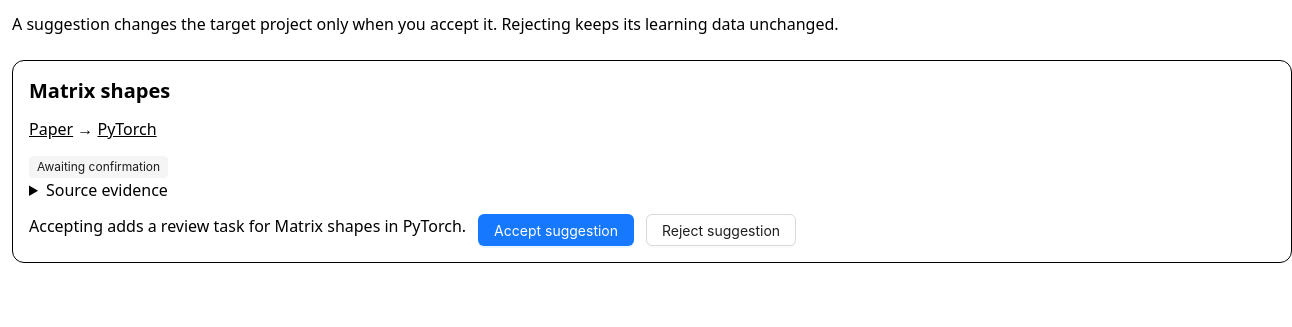
Test: reject sends only rejection and reports the unchanged target
The image size is (1292, 327).
What coordinates should you click on to do the following:
click the button "Reject suggestion"
I would click on:
 (721, 230)
Its box is [646,214,796,246].
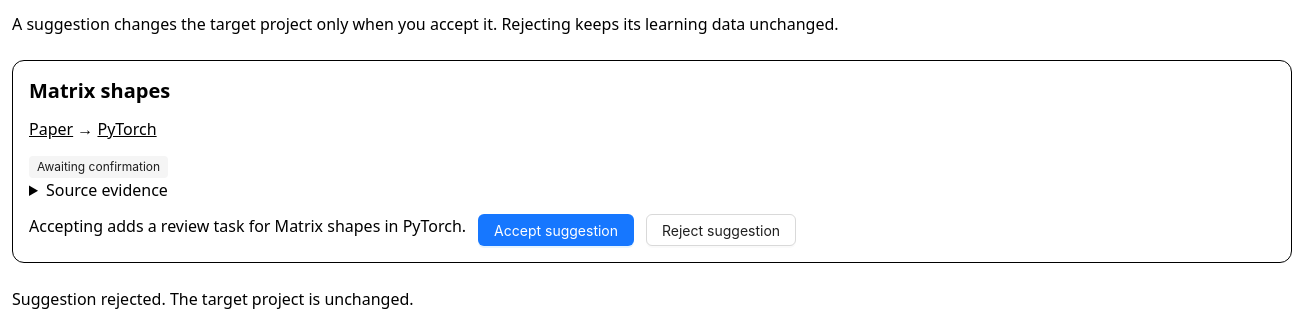
Check: the message shows "target project is unchanged", box [12,288,414,310]
